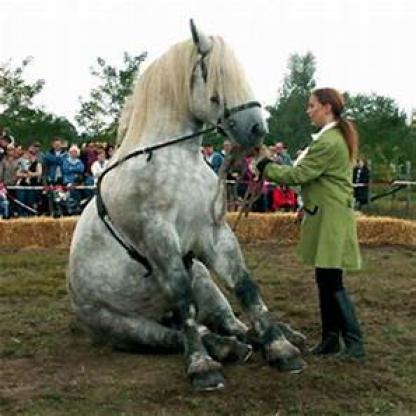horse: (63, 18, 314, 397)
